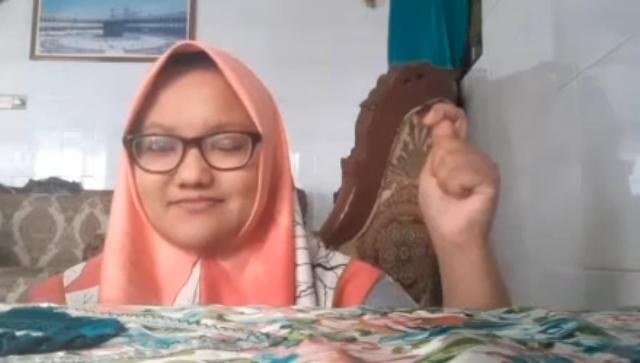T: (416, 101, 502, 255)
